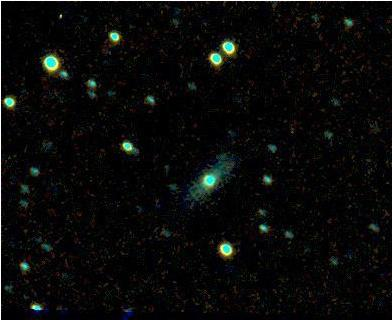star: (41, 8, 71, 38)
